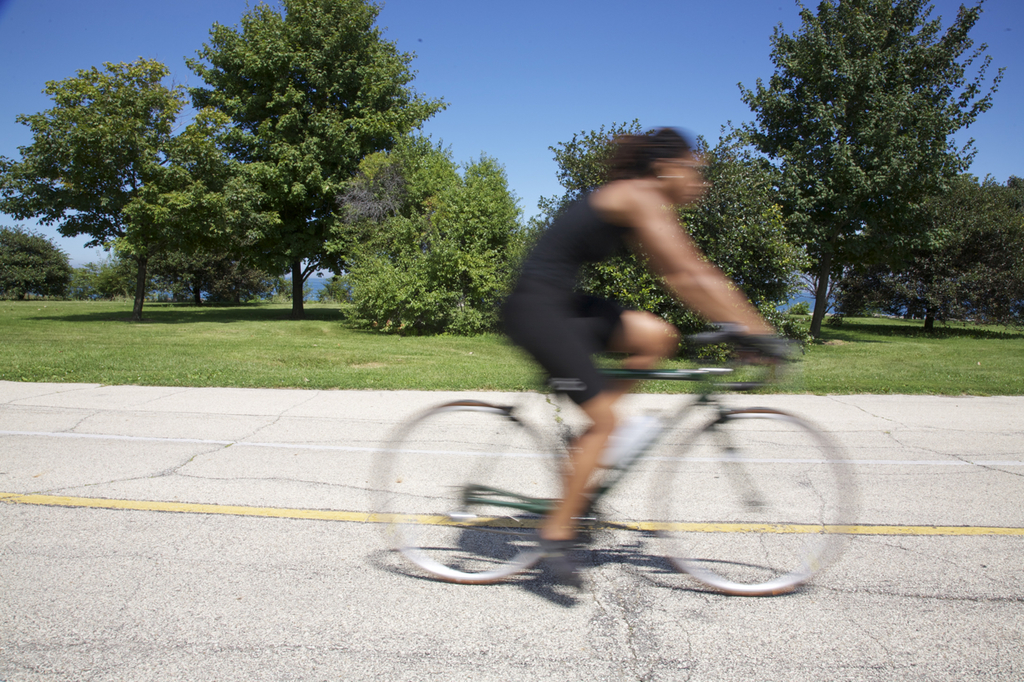Bike_away: (369, 343, 864, 591)
